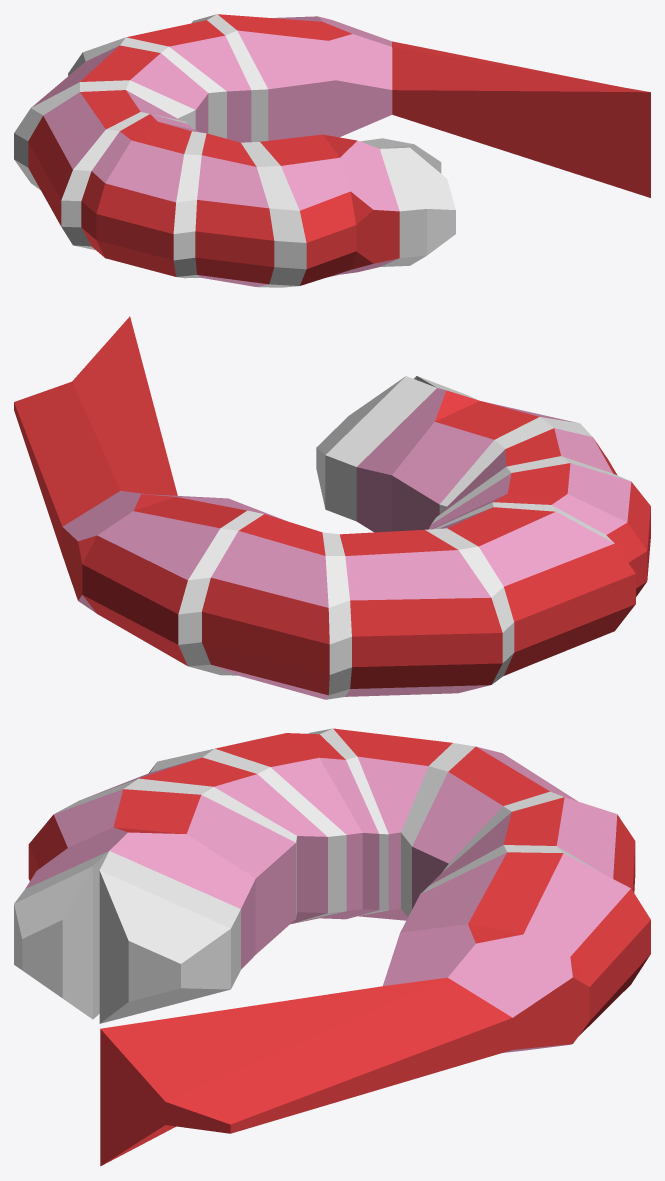
The model's file is shrimp.fbx.
The picture shows the model from 3 angles, top to bottom: view 1: azimuth 30°, elevation 25°; view 2: azimuth 150°, elevation 25°; view 3: azimuth 270°, elevation 25°; orthographic projection. The views are drawn at different scales.
Visible parts, largest first — view 1: Plane; view 2: Plane; view 3: Plane.
Part boxes in pixels (x1,y1,x2,y2): Plane: (14,14,650,287); Plane: (14,316,650,699); Plane: (14,728,650,1166).
Bounding box in the file's own units: 412 × 92.28 × 311.
